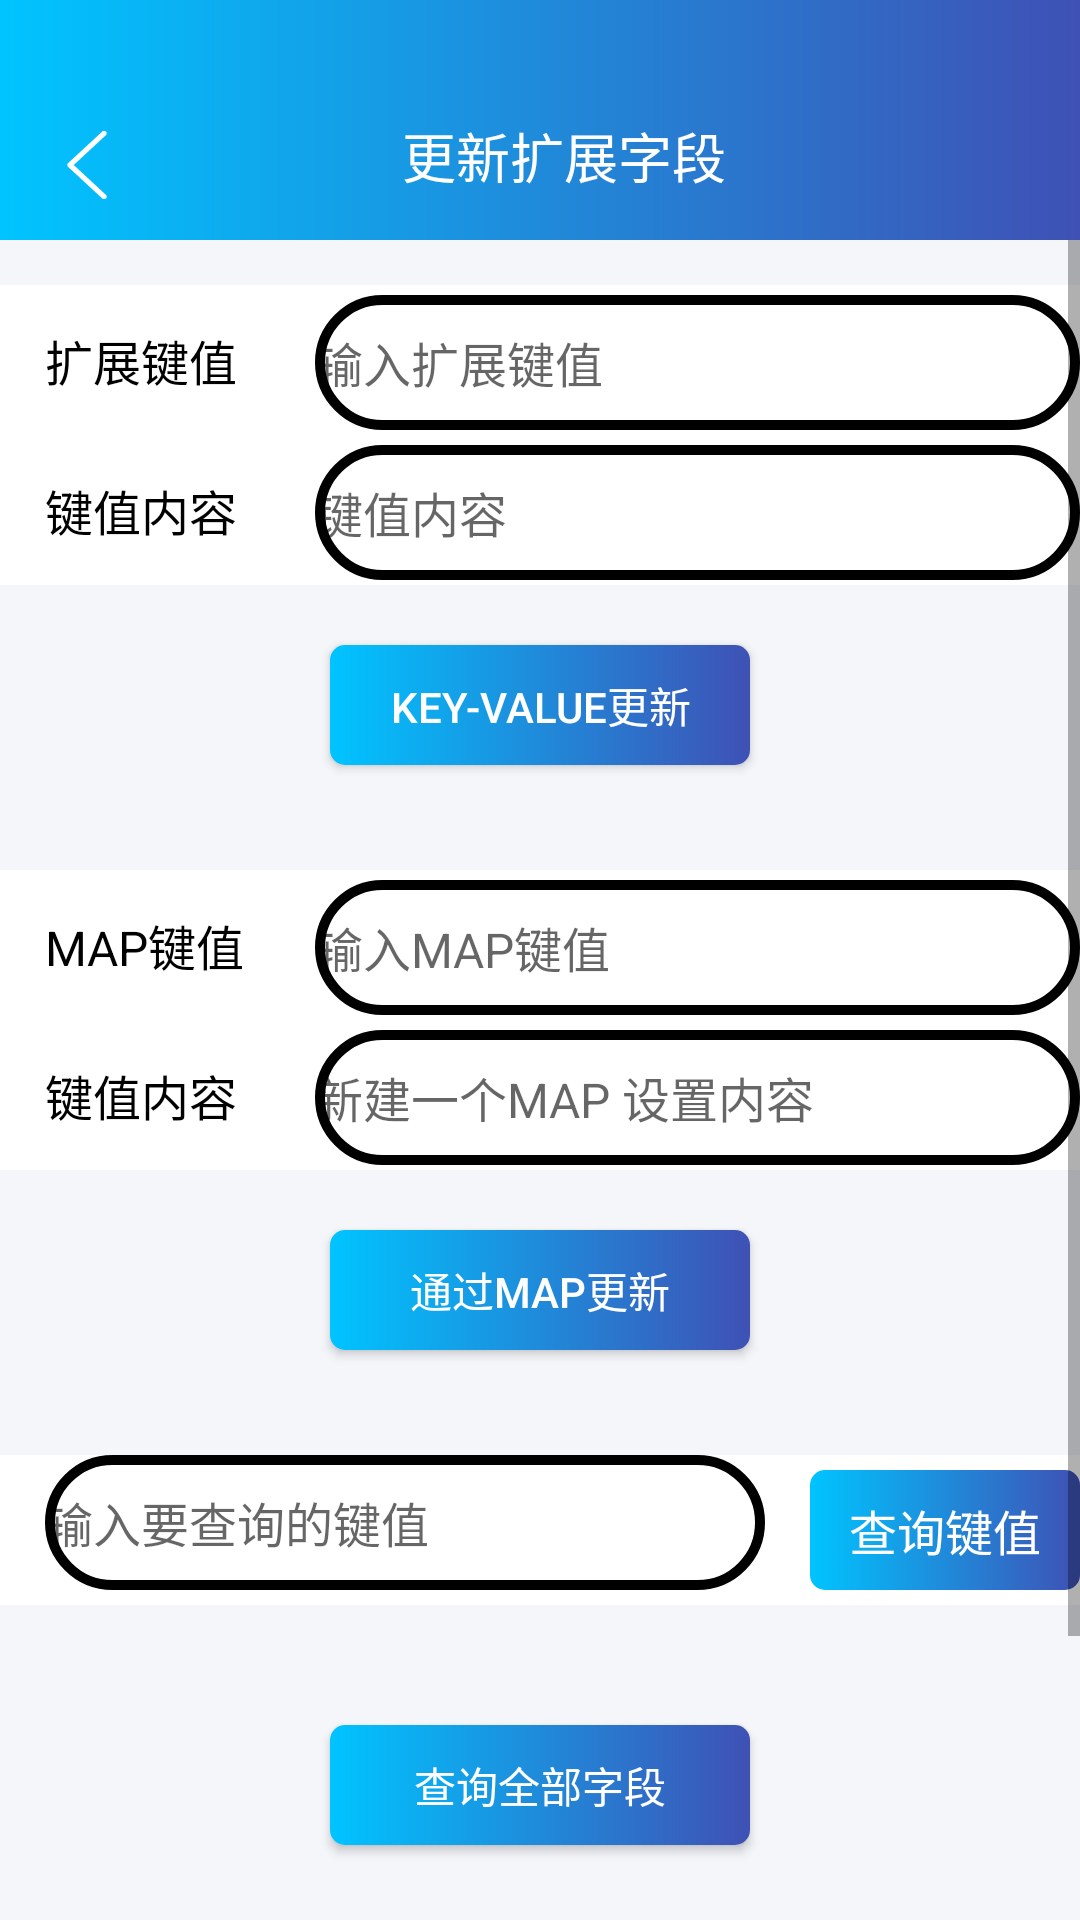

Icons on this 1080×1920 Android screen, each with the point to tap as (x=x, y=y):
back: (x=87, y=164)
